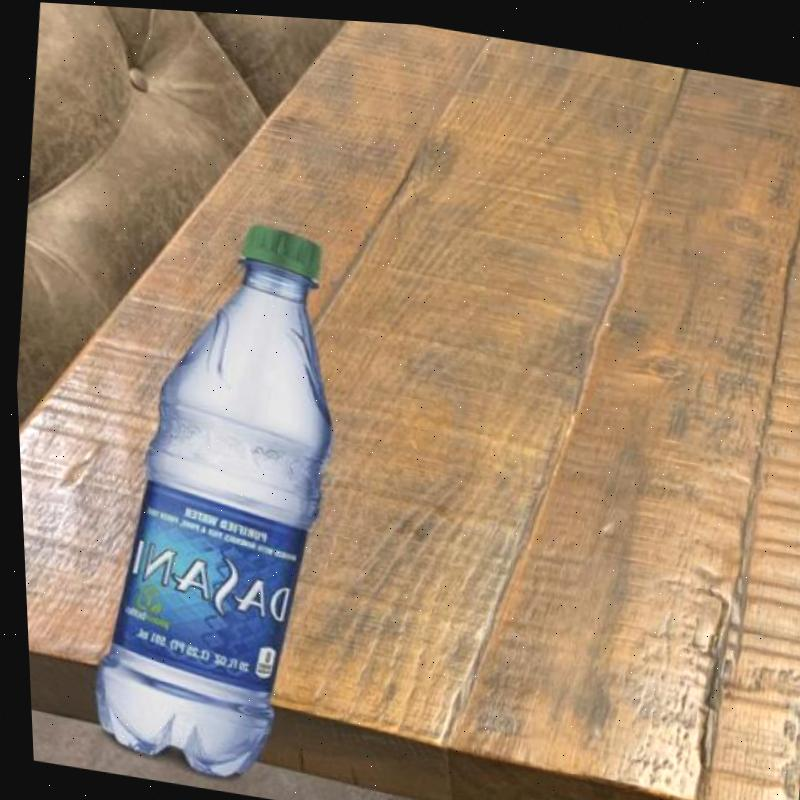botella: (63, 191, 363, 790)
